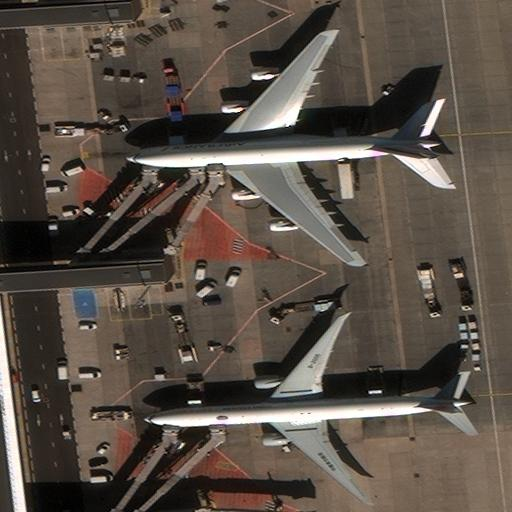Large Civil Transport: (125, 31, 440, 265), (143, 316, 471, 503)
